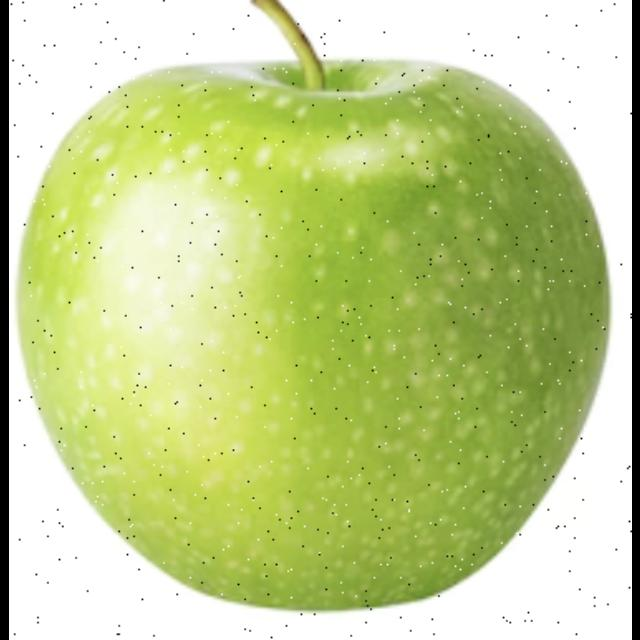Apel Segar: (19, 43, 620, 629)
